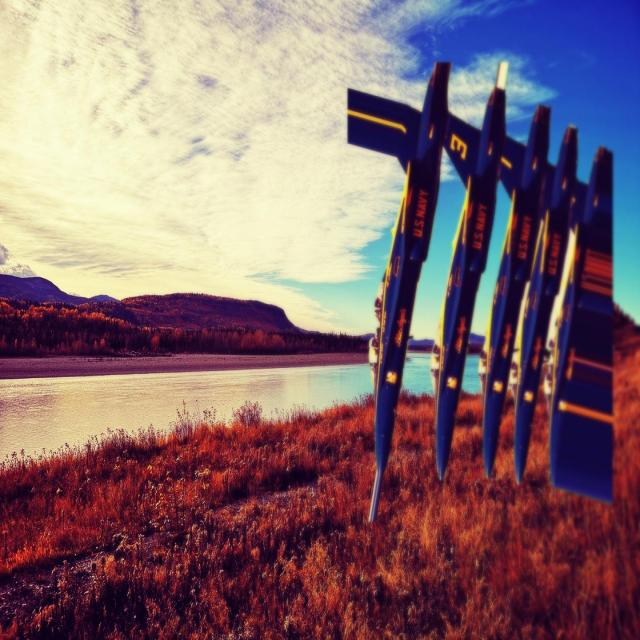airplane: (342, 54, 448, 522), (481, 94, 552, 480), (446, 67, 506, 505), (514, 120, 582, 478)
